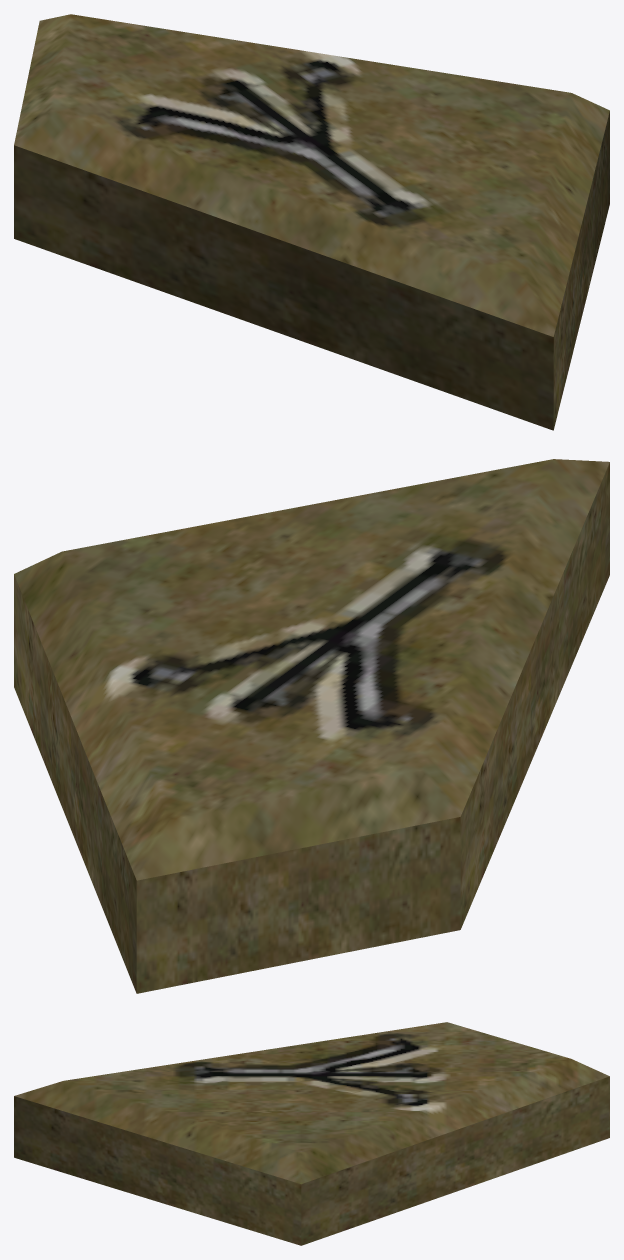
File: INST_SM_RUNEA.fbx
3 renders of one model, top to bottom at view 1: azimuth 30°, elevation 25°; view 2: azimuth 150°, elevation 25°; view 3: azimuth 270°, elevation 25°, orthographic. The views are drawn at different scales.
Visible parts, largest first — view 1: INST_SM_RUNEA; view 2: INST_SM_RUNEA; view 3: INST_SM_RUNEA.
Boxes of the visible parts, box(x1,y1,x2,y2) form: INST_SM_RUNEA: box(14, 14, 609, 430); INST_SM_RUNEA: box(14, 459, 609, 993); INST_SM_RUNEA: box(14, 1022, 609, 1245).
Bounding box in the file's own units: 5778 × 1386 × 9386.
1 material, 1 textured.
